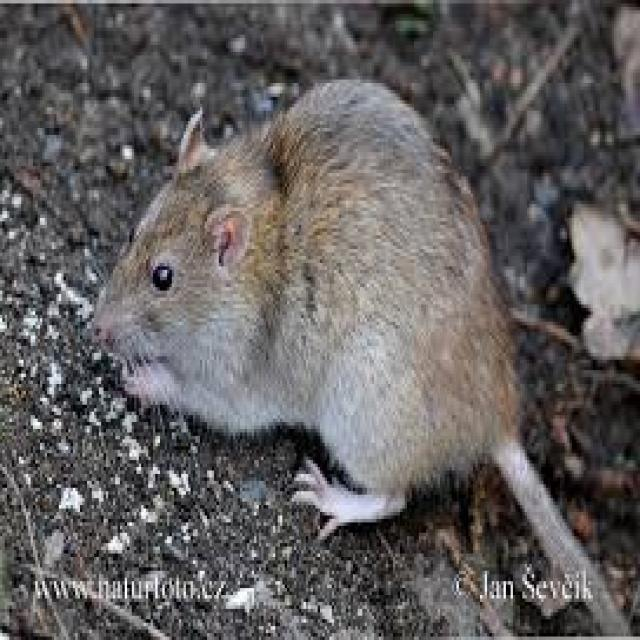rat: (89, 73, 633, 633)
